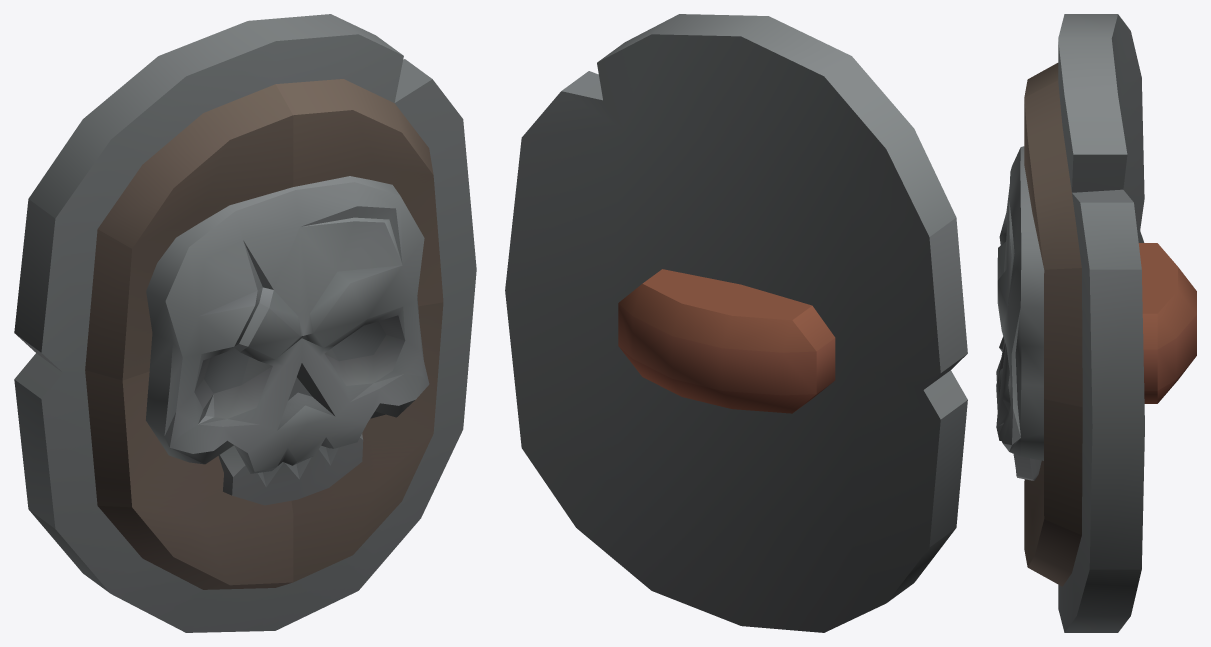
The model's file is XS_Skeleton_Shield_Large_A.glb.
3 renders of one model, left to right at view 1: azimuth 30°, elevation 25°; view 2: azimuth 150°, elevation 25°; view 3: azimuth 270°, elevation 25°, orthographic. The views are drawn at different scales.
Visible parts, largest first — view 1: Skeleton_Shield_Large_A; view 2: Skeleton_Shield_Large_A; view 3: Skeleton_Shield_Large_A.
Part boxes in pixels (bbox=[...]): Skeleton_Shield_Large_A: bbox=[14, 14, 476, 632]; Skeleton_Shield_Large_A: bbox=[505, 14, 967, 632]; Skeleton_Shield_Large_A: bbox=[996, 14, 1196, 632].
Size of the model in its own units: 0.8771 by 1.13 by 0.3625.
